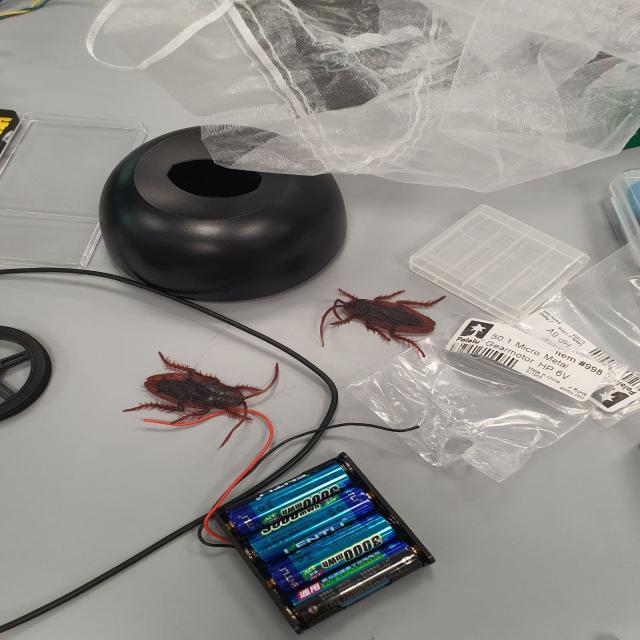Cockroach: (117, 351, 290, 453), (307, 282, 453, 364)
